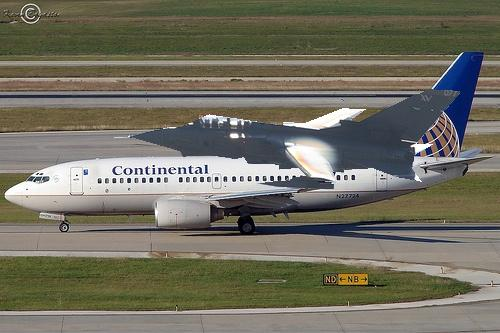tampered: (115, 90, 460, 189)
